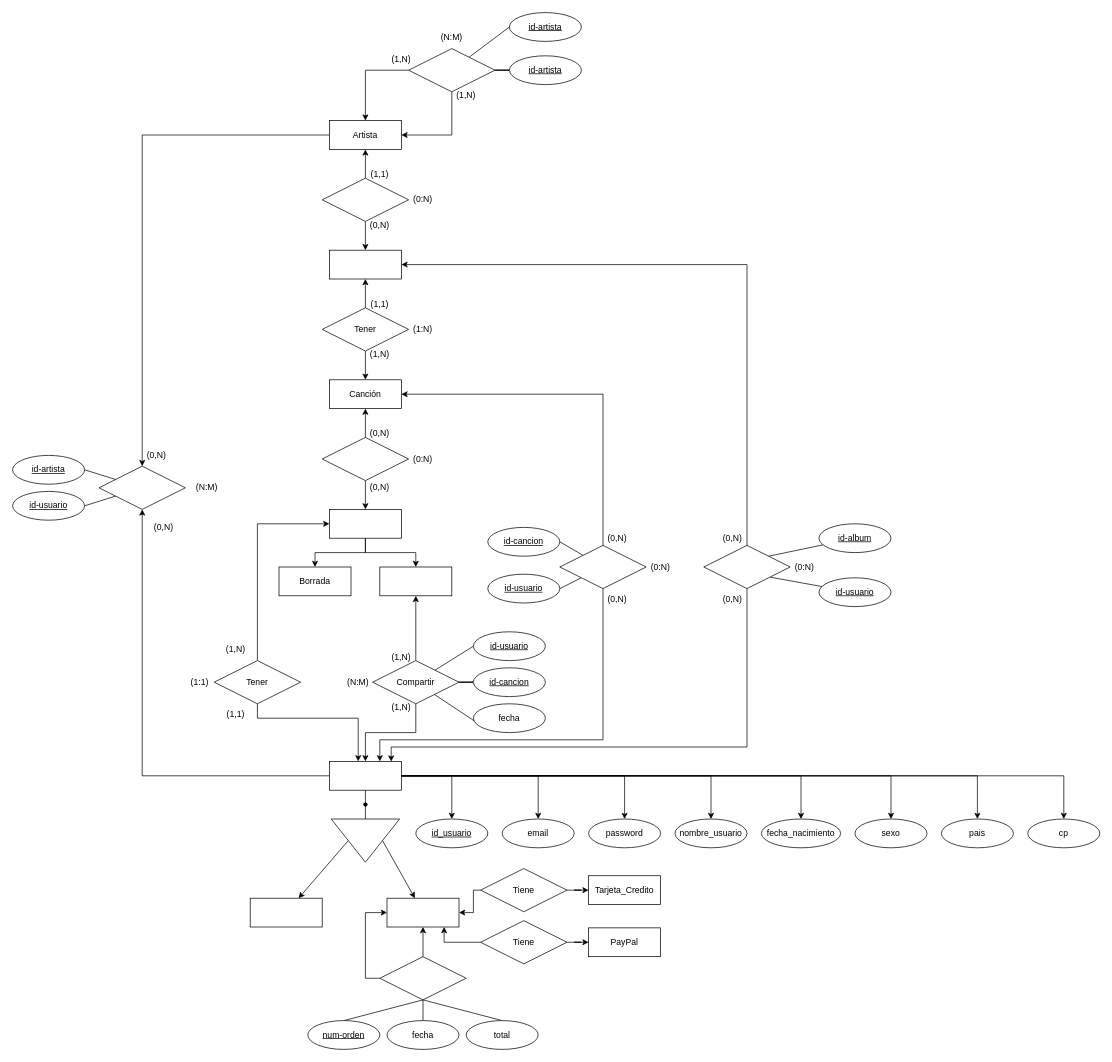
The diagram is 1112 pixels wide and 1062 high, and some of its shapes have lost their labels. Here are the shapes that lost their labels. From the top down, the centre of each, then its label:
(x=451, y=70): Relacionado
(x=365, y=199): Publicado
(x=365, y=264): Álbum
(x=365, y=459): Estar
(x=141, y=487): Seguir
(x=365, y=523): Playlist
(x=415, y=581): Activa
(x=602, y=567): cancion_favorita
(x=746, y=567): album_favorito
(x=365, y=775): Usuario
(x=285, y=912): Free
(x=422, y=912): Premium
(x=422, y=978): Pago
